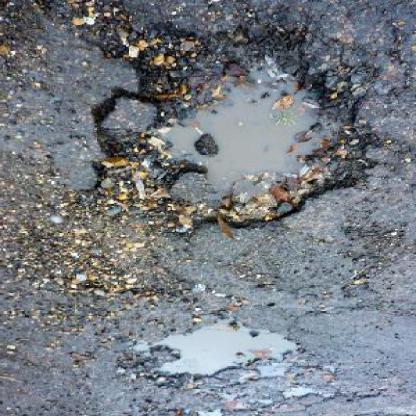pothole: (77, 17, 384, 229), (119, 322, 309, 388)
